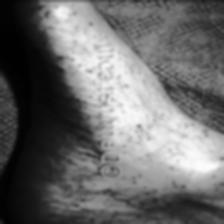Toxin: (37, 4, 92, 190), (124, 119, 224, 192)
